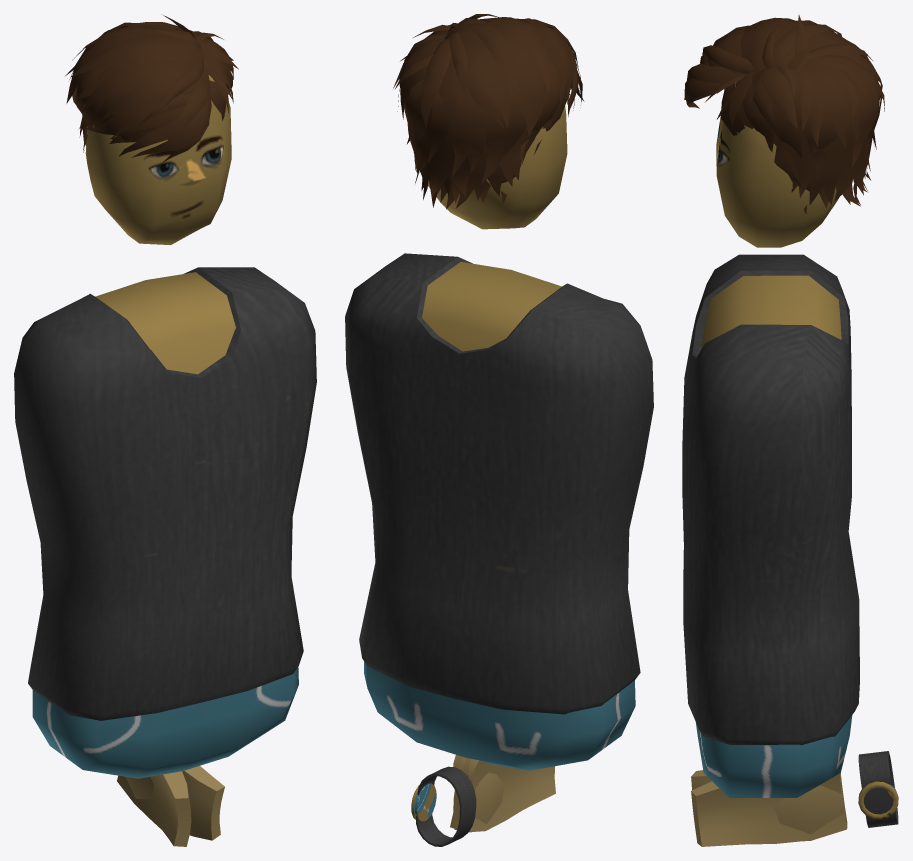
File: Avatar4.fbx
3 views of the same model, side by side, from view 1: azimuth 30°, elevation 25°; view 2: azimuth 150°, elevation 25°; view 3: azimuth 270°, elevation 25° (orthographic). The views are drawn at different scales.
Parts seen in each view (by area): view 1: Body4, Hair4, Head4, HandL, HandR; view 2: Body4, Hair4, Head4, HandL, Watch, HandR; view 3: Body4, Hair4, Head4, HandR, Watch, HandL.
Boxes of the visible parts, x1,y1,x2,y2 form: Body4: (14,267,316,778); Hair4: (65,15,238,162); Head4: (85,75,231,244); HandL: (117,771,191,846); HandR: (125,766,224,840); Body4: (345,253,653,770); Hair4: (393,14,584,209); Head4: (428,106,567,229); HandL: (453,757,555,832); Watch: (411,766,476,846); HandR: (450,755,504,832); Body4: (682,254,859,797); Hair4: (684,15,884,214); Head4: (716,82,839,247); HandR: (691,773,847,846); Watch: (858,751,898,827); HandL: (691,770,847,841).
Bounding box in the file's own units: 45.53 × 128 × 30.7.
3 materials, 1 textured.
